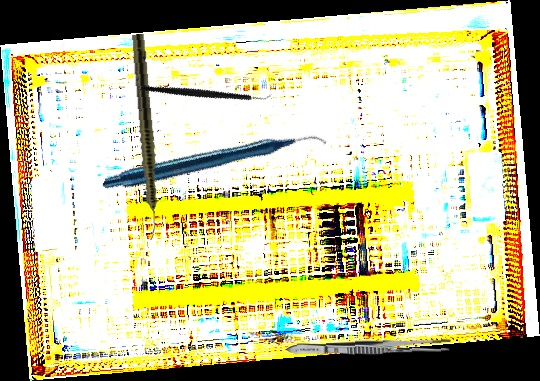Chopper: (139, 40, 274, 142)
Dressing Forceps: (285, 336, 453, 358)
Handpiece: (102, 64, 327, 263), (129, 33, 163, 241)
